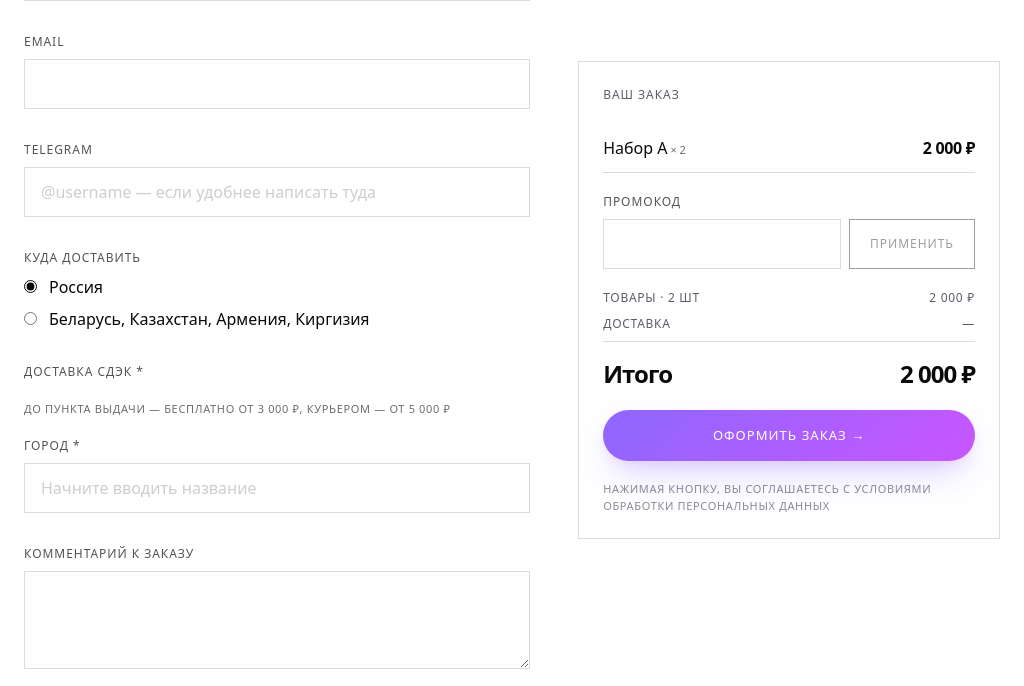
Test: /checkout page › после города — цены обоих способов с сервера, в сводке — цена пункта выдачи
(page scrolled)
Type "Моск" into the dropdown labelled "Город *".
click(277, 488); type("Моск")  # box [24, 463, 530, 513]
(page scrolled)
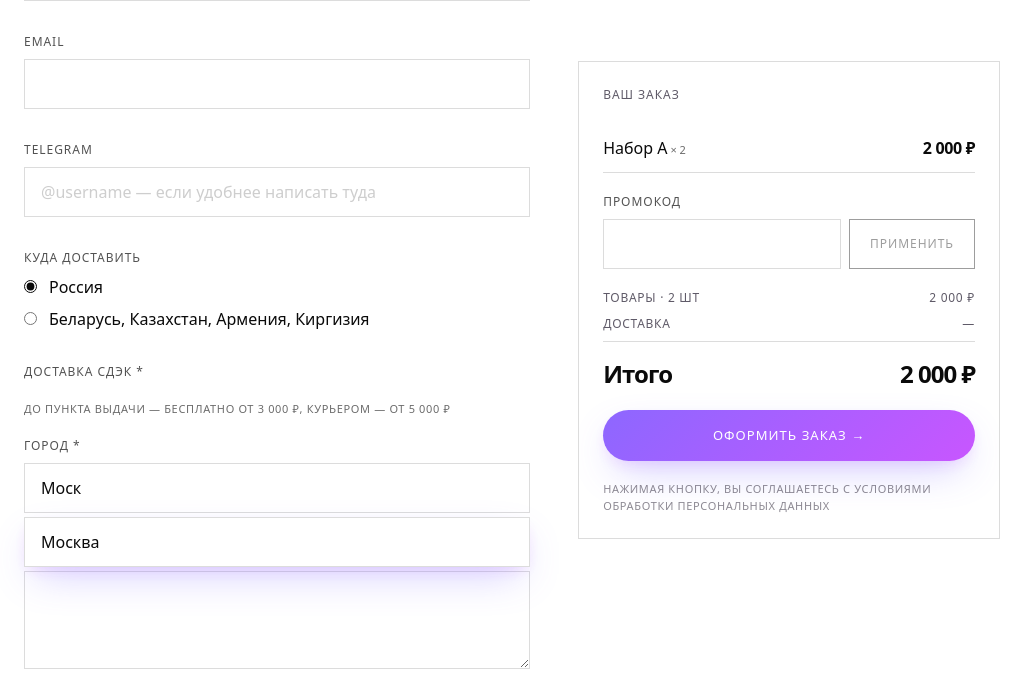
Click the option "Москва".
click(70, 542)  # box [41, 531, 100, 553]
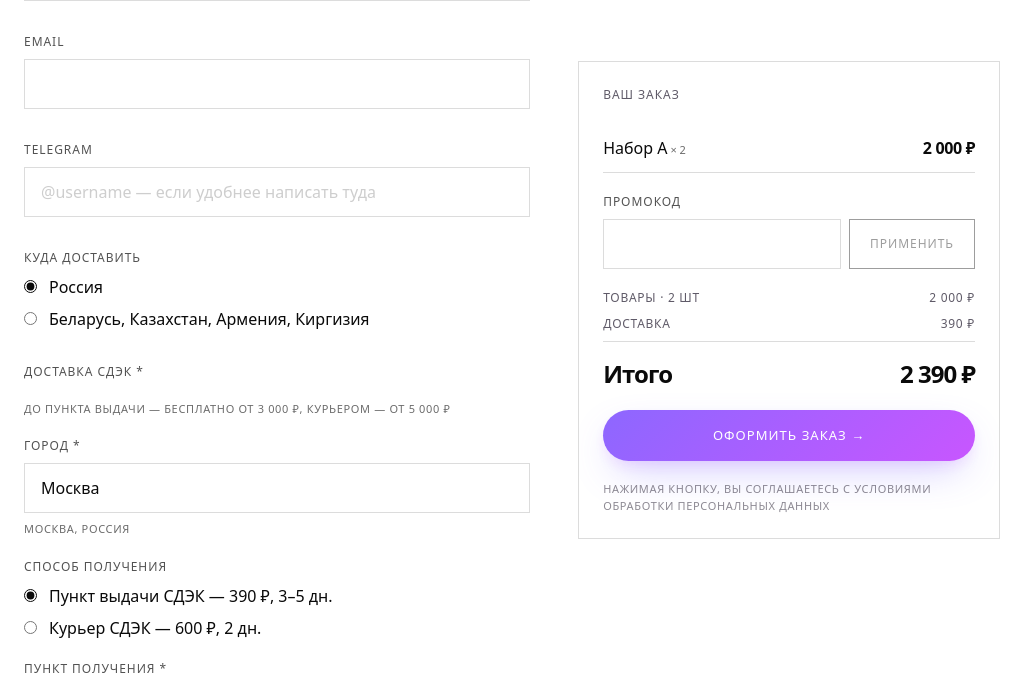
Result: the radio button labelled "Пункт выдачи СДЭК — 390 ₽, 3–5 дн." is checked at [24, 589, 37, 602]
Result: the radio button labelled "Курьер СДЭК — 600 ₽, 2 дн." is shown at [24, 621, 37, 634]
Result: the text with test id "summary-shipping" shows "390" at [941, 315, 975, 332]
